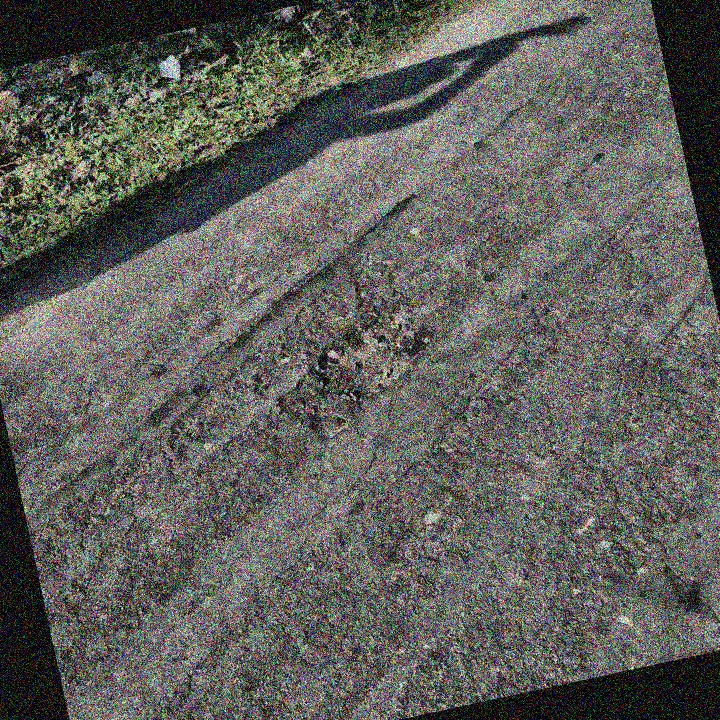pothole: (304, 310, 430, 411)
